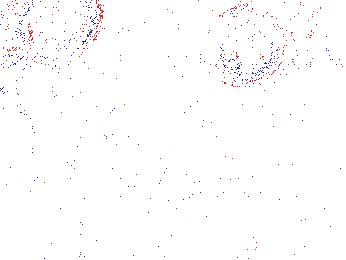moon jellyfish: (204, 4, 286, 88), (9, 1, 103, 65), (251, 1, 346, 59), (1, 7, 32, 69)
